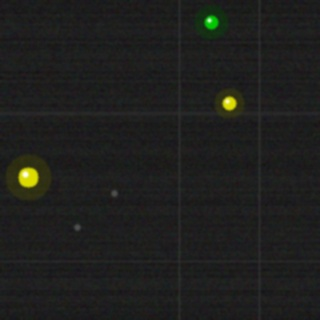green_normal: (202, 13, 220, 31)
yellow_warning: (16, 165, 40, 189), (220, 94, 238, 112)
